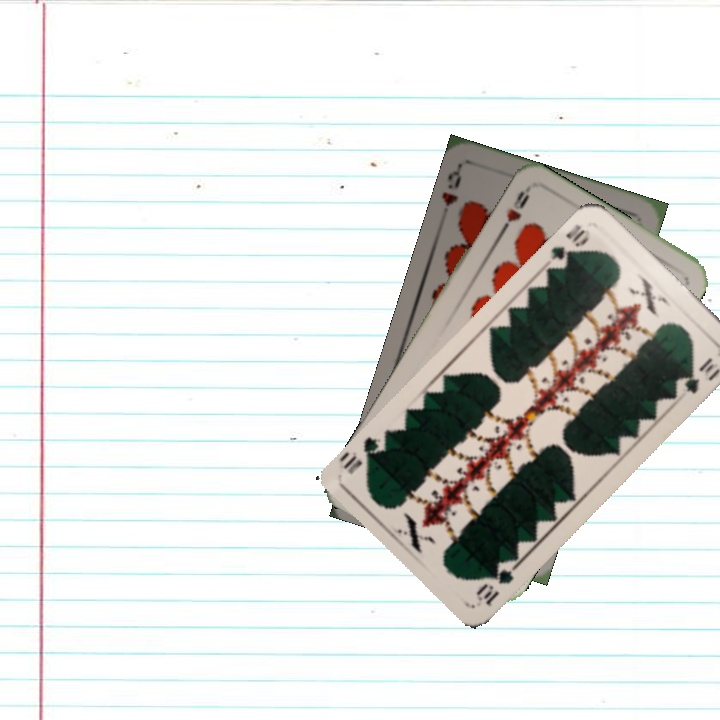G10: (471, 555, 521, 610), (546, 219, 593, 266)
H9: (495, 185, 533, 239), (438, 163, 464, 209)
